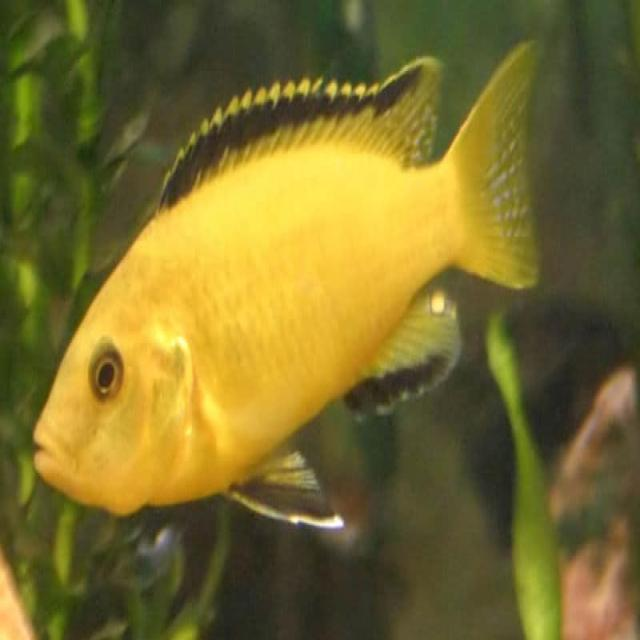YellowCichlid: (22, 48, 544, 556)
